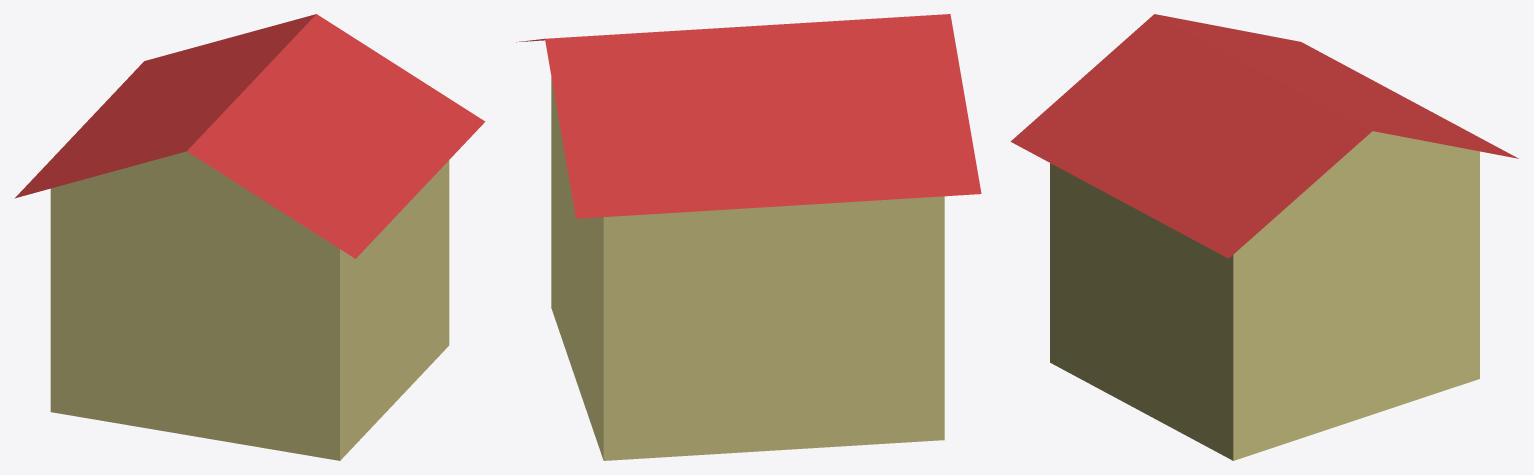
3 views of the same model, side by side, from view 1: azimuth 30°, elevation 25°; view 2: azimuth 150°, elevation 25°; view 3: azimuth 270°, elevation 25° (orthographic). The views are drawn at different scales.
Visible parts, largest first — view 1: group_5, group_3, group_4; view 2: group_5, group_3, group_4; view 3: group_5, group_3, group_4.
Boxes of the visible parts, left/top/right/bottom form: group_5: left=50, top=151, right=449, bottom=460; group_3: left=15, top=14, right=448, bottom=231; group_4: left=15, top=14, right=485, bottom=258; group_5: left=551, top=77, right=944, bottom=460; group_3: left=516, top=16, right=979, bottom=218; group_4: left=545, top=14, right=981, bottom=207; group_5: left=1050, top=131, right=1479, bottom=460; group_3: left=1050, top=14, right=1518, bottom=254; group_4: left=1010, top=14, right=1395, bottom=258.
Size of the model in its own units: 17.99 by 18.09 by 11.71.
